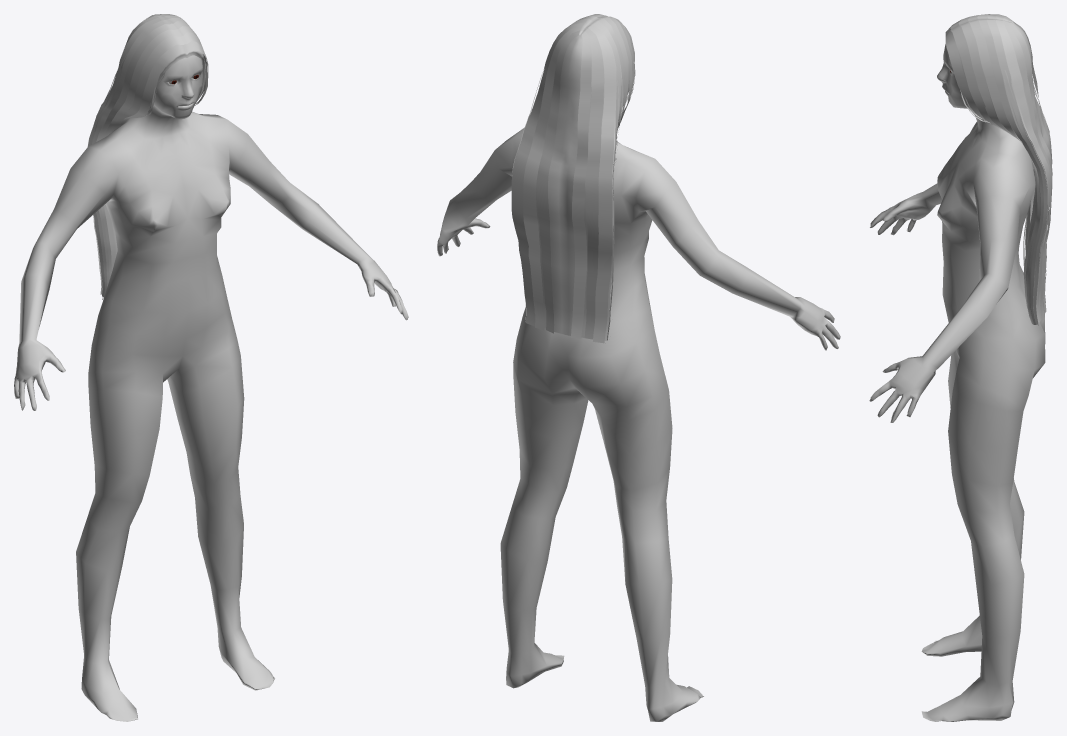
Rendered from npc11.fbx.
The picture shows the model from 3 angles, left to right: view 1: azimuth 30°, elevation 25°; view 2: azimuth 150°, elevation 25°; view 3: azimuth 270°, elevation 25°; orthographic projection. The views are drawn at different scales.
Visible parts, largest first — view 1: female1605Mesh, long01Mesh; view 2: female1605Mesh, long01Mesh; view 3: female1605Mesh, long01Mesh.
Part boxes in pixels (x1,y1,x2,y2): female1605Mesh: (14,55,408,721); long01Mesh: (87,14,208,299); female1605Mesh: (437,127,840,721); long01Mesh: (511,14,635,343); female1605Mesh: (869,44,1045,721); long01Mesh: (945,14,1052,325).
Bounding box in the file's own units: 10.4 × 17.14 × 4.27.
